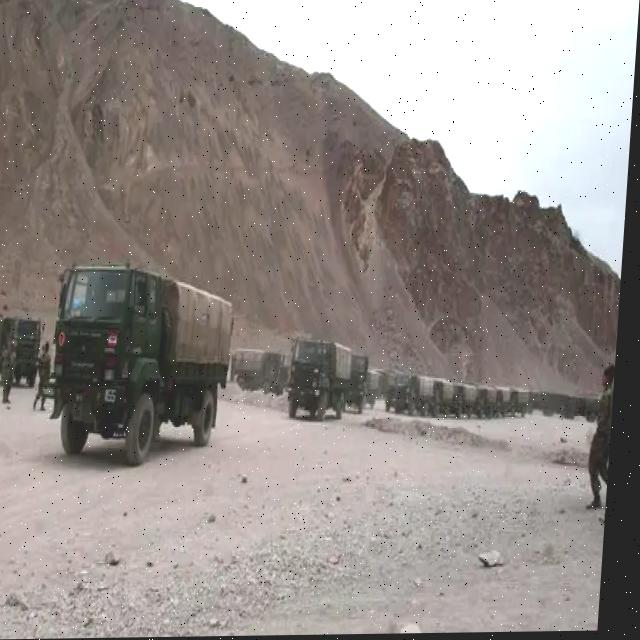unit number: (109, 388, 123, 405)
